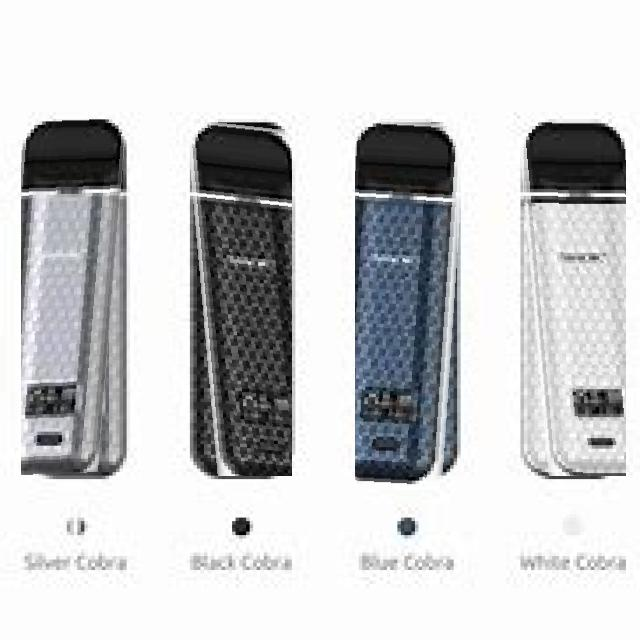Vapes: (355, 119, 466, 486), (517, 119, 626, 476), (21, 119, 127, 476), (186, 119, 292, 476)
